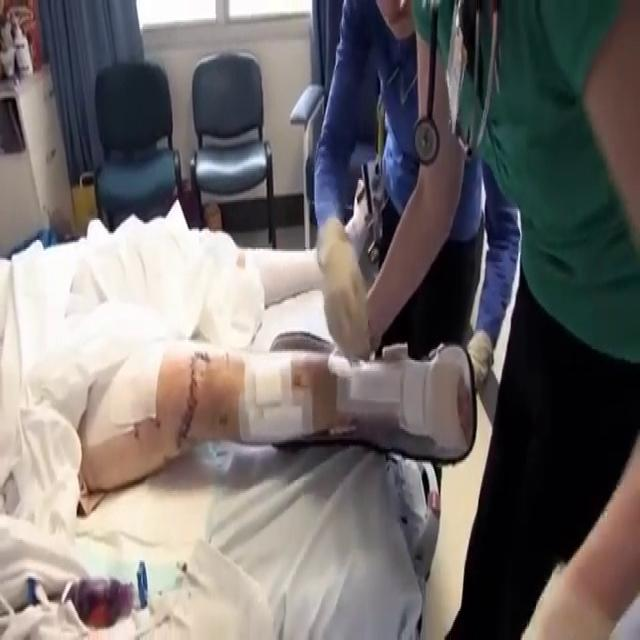patient: (0, 200, 478, 638)
